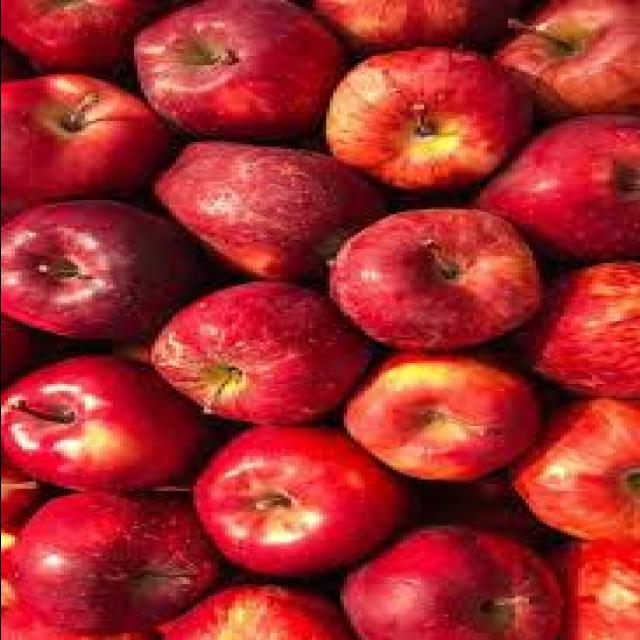apple: (334, 208, 546, 353)
